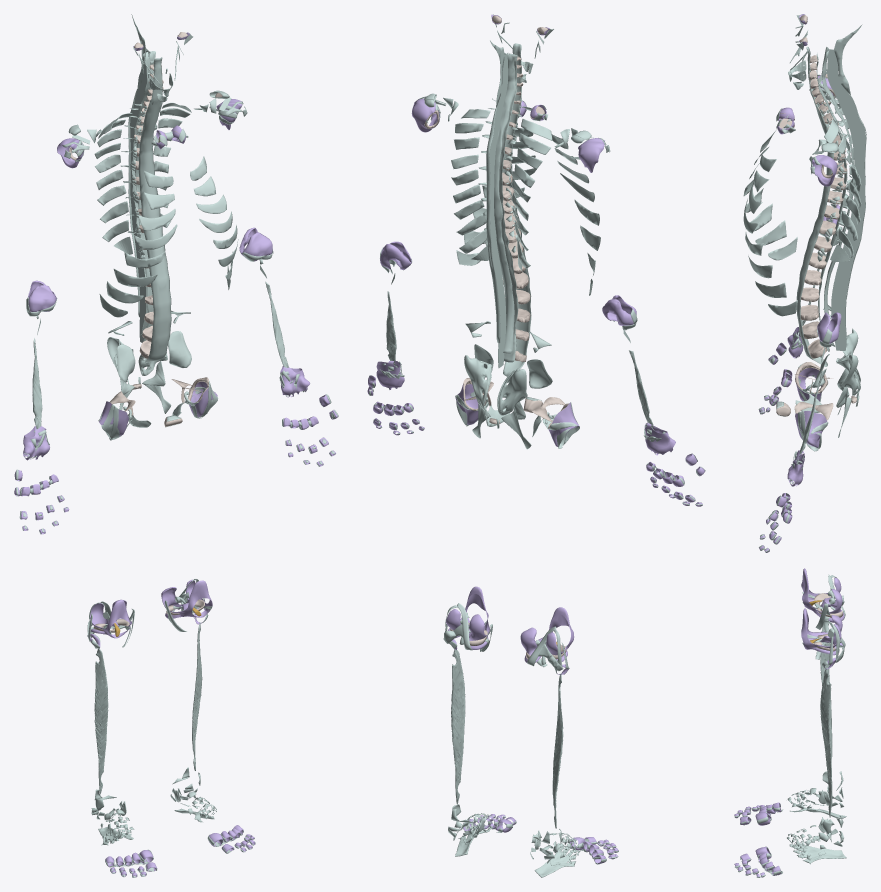
File: joints.glb
The picture shows the model from 3 angles, left to right: view 1: azimuth 30°, elevation 25°; view 2: azimuth 150°, elevation 25°; view 3: azimuth 270°, elevation 25°; orthographic projection. The views are drawn at different scales.
Visible parts, largest first — view 1: Anterior longitudinal ligament, External intercostal membrane.r, Internal intercostal membrane.r, External intercostal membrane.l, Interosseous membrane of leg.r, Interspinous ligaments, Articular capsule of knee joint.l, Internal intercostal membrane.l, Articular capsule of knee joint.r, Articular capsule of elbow joint.l, Interosseous membrane of leg.l, Articular capsule of elbow joint.r (+2 smaller); view 2: Internal intercostal membrane.l, Ligamenta flava, Interspinous ligaments, Internal intercostal membrane.r, Interosseous membrane of leg.l, Anterior longitudinal ligament, External intercostal membrane.r, Posterior longitudinal ligament, Articular capsule of knee joint.l, Supraspinous ligament, Articular capsule of knee joint.r, Posterior sacro-iliac ligament.r (+4 smaller); view 3: Interspinous ligaments, External intercostal membrane.l, Internal intercostal membrane.l, Anterior longitudinal ligament, External intercostal membrane.r, Interosseous membrane of leg.l, Ligamenta flava, Articular capsule of knee joint.l, Articular capsule of knee joint.r, Posterior longitudinal ligament, Long plantar ligament.l, Articular capsule of hip joint.l (+14 smaller).
Boxes of the visible parts, x1,y1,x2,y2 form: Anterior longitudinal ligament: (138,57,171,363); External intercostal membrane.r: (99,170,177,317); Internal intercostal membrane.r: (94,113,132,254); External intercostal membrane.l: (190,156,238,289); Interosseous membrane of leg.r: (94,648,108,794); Interspinous ligaments: (130,50,149,342); Articular capsule of knee joint.l: (161,579,212,618); Internal intercostal membrane.l: (153,102,191,235); Articular capsule of knee joint.r: (90,599,131,638); Articular capsule of elbow joint.l: (239,227,272,261); Interosseous membrane of leg.l: (192,622,202,770); Articular capsule of elbow joint.r: (27,280,56,311); Internal intercostal membrane.l: (451,109,490,260); Ligamenta flava: (494,53,515,353); Interspinous ligaments: (488,53,508,368); Internal intercostal membrane.r: (512,119,552,271); Interosseous membrane of leg.l: (451,649,465,804); Anterior longitudinal ligament: (502,43,531,376); External intercostal membrane.r: (551,134,600,295); Posterior longitudinal ligament: (499,53,518,362); Articular capsule of knee joint.l: (446,586,490,649); Supraspinous ligament: (486,108,500,343); Articular capsule of knee joint.r: (520,607,574,662); Posterior sacro-iliac ligament.r: (497,368,527,415); Interspinous ligaments: (826,49,865,350); External intercostal membrane.l: (743,154,797,316); Internal intercostal membrane.l: (824,116,861,262); Anterior longitudinal ligament: (796,46,833,366); External intercostal membrane.r: (743,129,797,260); Interosseous membrane of leg.l: (820,667,832,817); Ligamenta flava: (822,47,854,320); Articular capsule of knee joint.l: (801,608,842,655); Articular capsule of knee joint.r: (801,568,844,622); Posterior longitudinal ligament: (816,53,847,351); Long plantar ligament.l: (789,843,846,864); Articular capsule of hip joint.l: (795,411,827,447).
Size of the model in its own units: 0.6615 by 1.58 by 0.2308.
